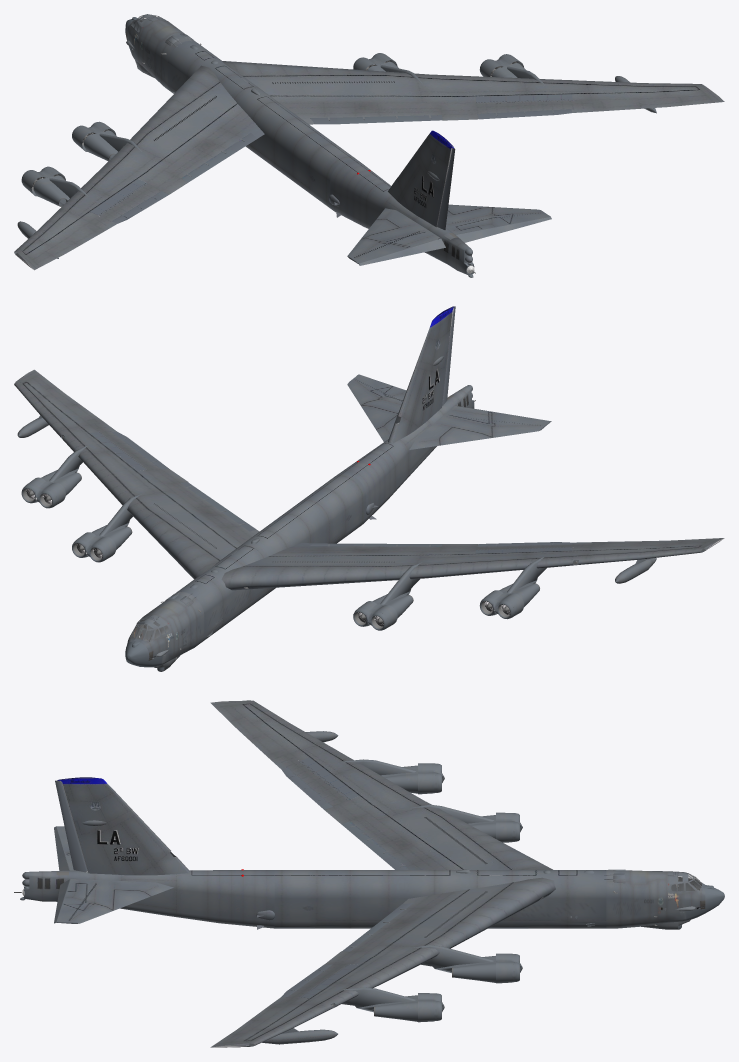
The picture shows the model from 3 angles, top to bottom: view 1: azimuth 30°, elevation 25°; view 2: azimuth 150°, elevation 25°; view 3: azimuth 270°, elevation 25°; orthographic projection. The views are drawn at different scales.
Parts seen in each view (by area): view 1: body|Wing0.5, body|Wing2, body|material_2, body|HStab, body|material_3, body|VertStab1, body|Engine2, body|material_1, body|Wing4, body|Engine1, body|Wing3, body|Rudder2; view 2: body|Wing0.5, body|Wing2, body|material_2, body|HStab, body|material_3, body|Engine2, body|VertStab1, body|Engine1, body|material_1, body|Wing4, body|Wing1, body|Wing3 (+2 smaller); view 3: body|Wing2, body|material_2, body|Wing0.5, body|material_3, body|VertStab2, body|Engine1, body|material_1, body|HStab, body|Engine2, body|Wing4, body|Wing3, body|Rudder1 (+1 smaller).
Part boxes in pixels (left/top/right/bottom): body|Wing0.5: left=222, top=61, right=724, bottom=124; body|Wing2: left=14, top=65, right=394, bottom=270; body|material_2: left=168, top=41, right=358, bottom=210; body|HStab: left=347, top=204, right=551, bottom=265; body|material_3: left=329, top=159, right=474, bottom=277; body|VertStab1: left=388, top=131, right=454, bottom=226; body|Engine2: left=17, top=121, right=141, bottom=258; body|material_1: left=126, top=14, right=196, bottom=91; body|Wing4: left=112, top=109, right=571, bottom=223; body|Engine1: left=353, top=53, right=656, bottom=113; body|Wing3: left=90, top=94, right=573, bottom=216; body|Rudder2: left=437, top=147, right=455, bottom=229; body|Wing0.5: left=14, top=369, right=259, bottom=578; body|Wing2: left=153, top=503, right=724, bottom=587; body|material_2: left=168, top=473, right=366, bottom=641; body|HStab: left=347, top=374, right=551, bottom=449; body|material_3: left=338, top=385, right=474, bottom=521; body|Engine2: left=353, top=557, right=656, bottom=630; body|VertStab1: left=389, top=306, right=454, bottom=443; body|Engine1: left=17, top=415, right=141, bottom=562; body|material_1: left=126, top=591, right=204, bottom=665; body|Wing4: left=112, top=431, right=571, bottom=546; body|Wing1: left=227, top=540, right=721, bottom=590; body|Wing3: left=90, top=431, right=573, bottom=553; body|Wing2: left=210, top=700, right=552, bottom=937; body|material_2: left=274, top=869, right=606, bottom=928; body|Wing0.5: left=210, top=877, right=555, bottom=1047; body|material_3: left=20, top=870, right=274, bottom=929; body|VertStab2: left=57, top=777, right=190, bottom=875; body|Engine1: left=262, top=945, right=522, bottom=1044; body|material_1: left=604, top=869, right=705, bottom=928; body|HStab: left=54, top=826, right=173, bottom=923; body|Engine2: left=306, top=731, right=522, bottom=842; body|Wing4: left=281, top=767, right=413, bottom=996; body|Wing3: left=298, top=757, right=358, bottom=998; body|Rudder1: left=55, top=780, right=87, bottom=872.
Bounding box in the file's own units: 55.98 × 11.14 × 48.78.
Materials: 27 (22 with a texture image).
